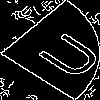U: (25, 24, 100, 82)
